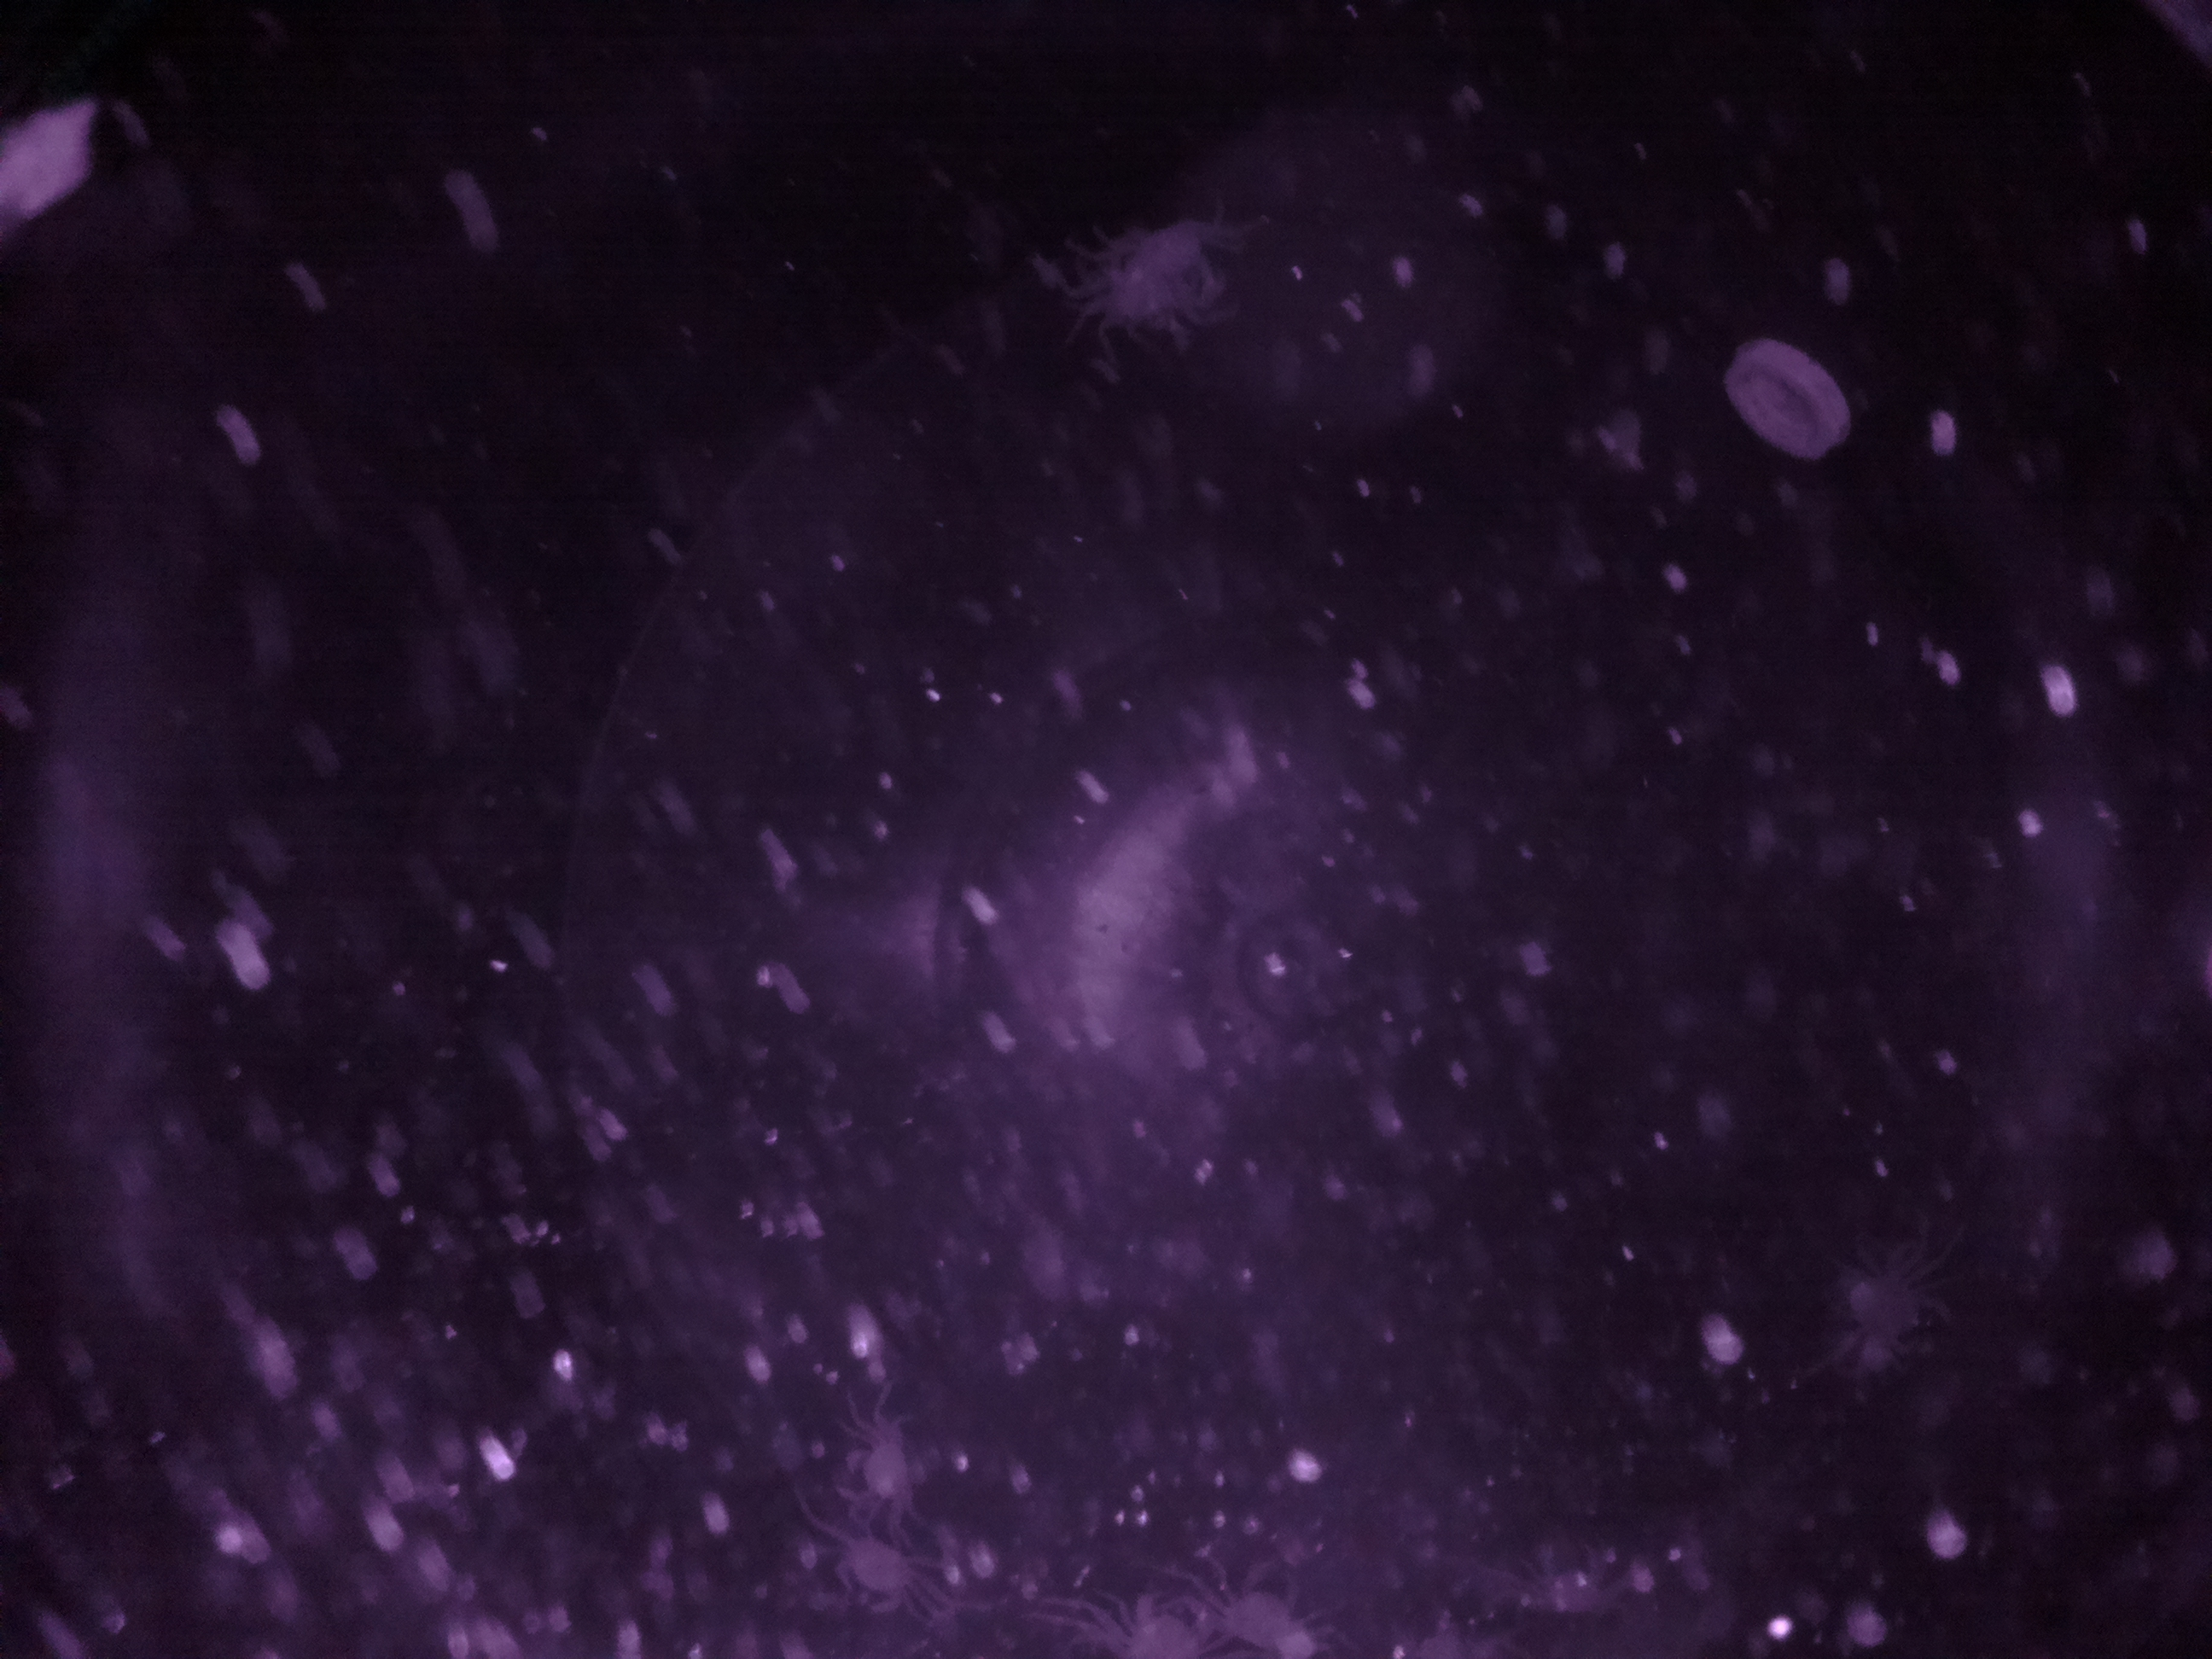Crab: (1207, 1542, 1322, 1659), (833, 1419, 939, 1523), (820, 1521, 927, 1621), (1118, 1567, 1219, 1659)
